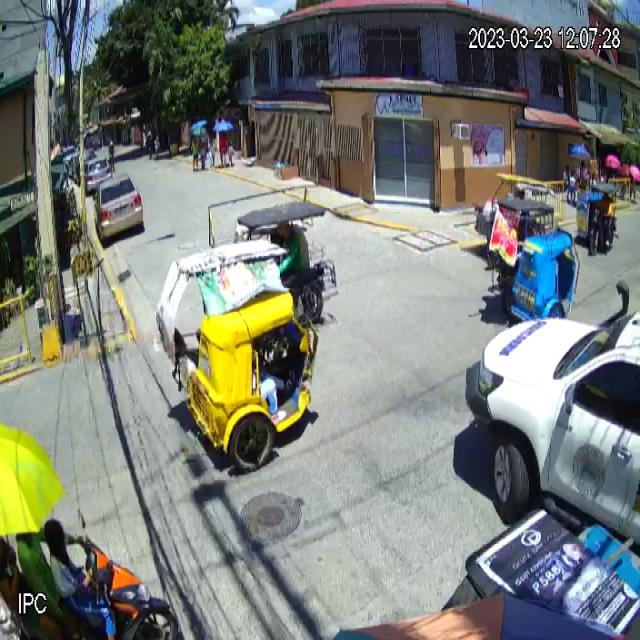Tricycle: (155, 239, 320, 474), (483, 172, 580, 325)
